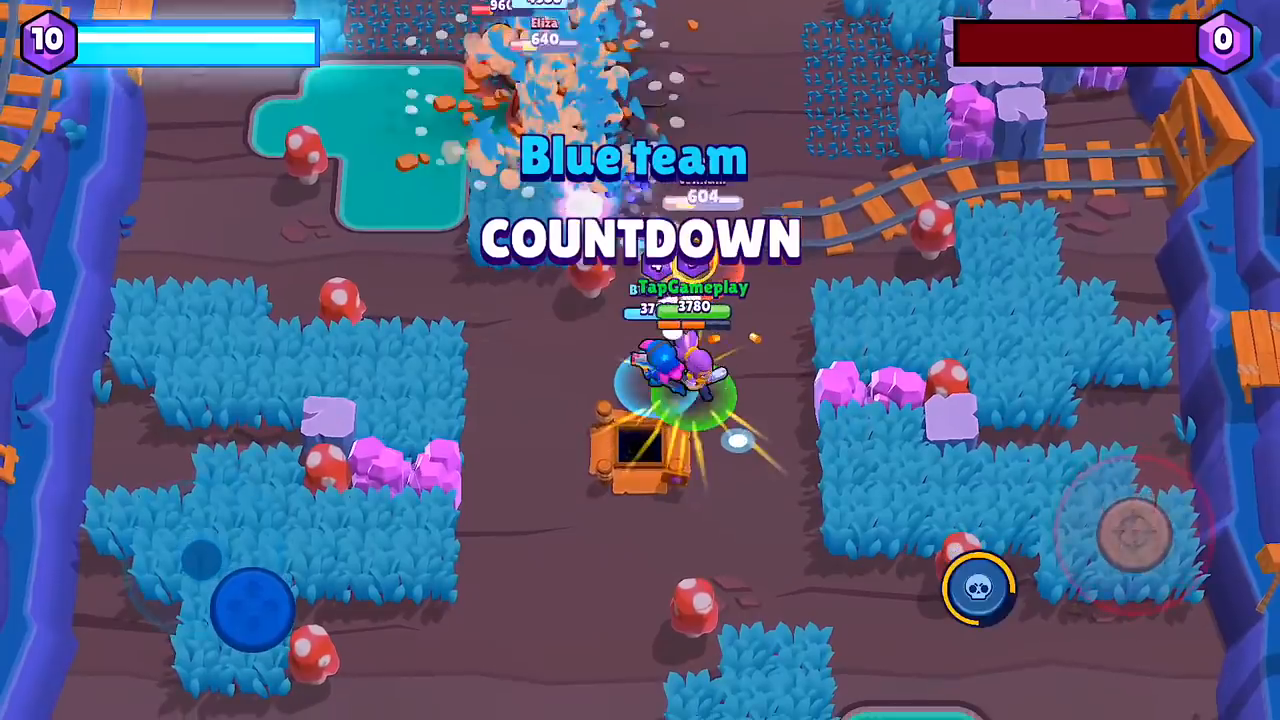move_stick: (217, 564, 289, 654)
red: (472, 1, 521, 90)
